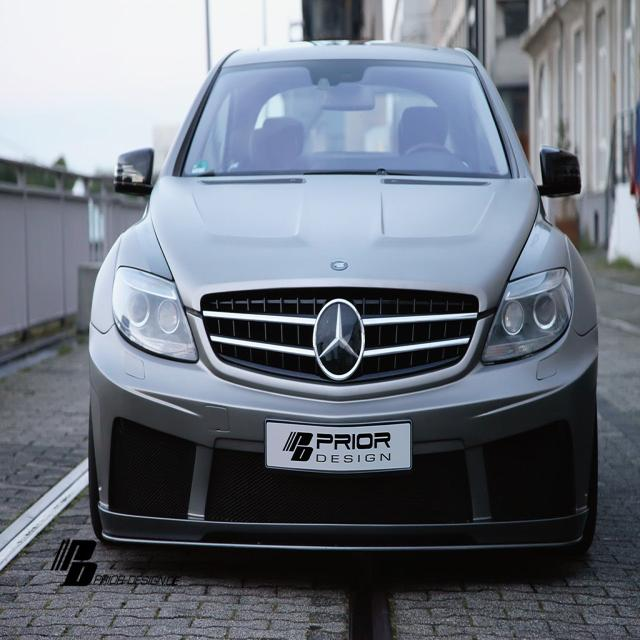car: (87, 38, 597, 548)
